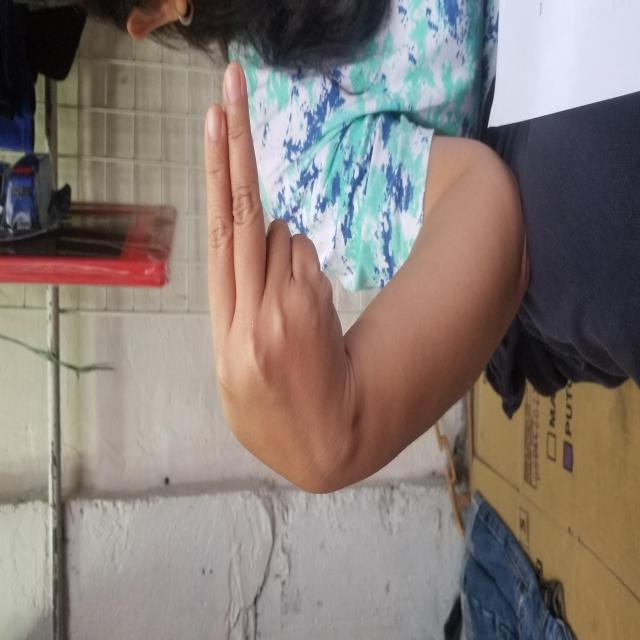H: (145, 201, 579, 354)
